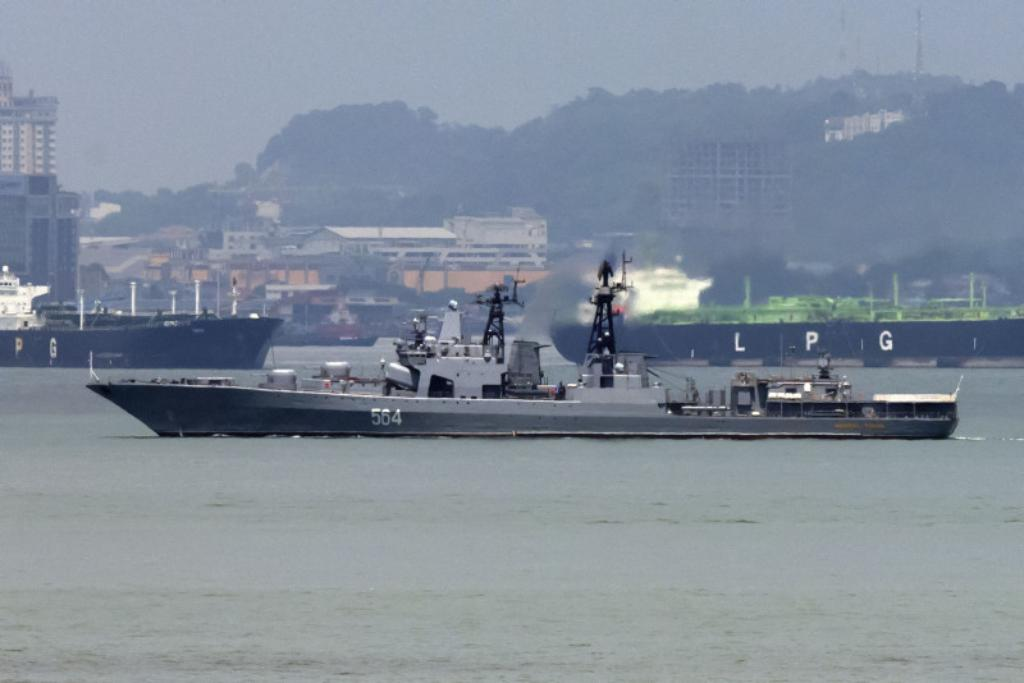Warship: (84, 244, 970, 439)
